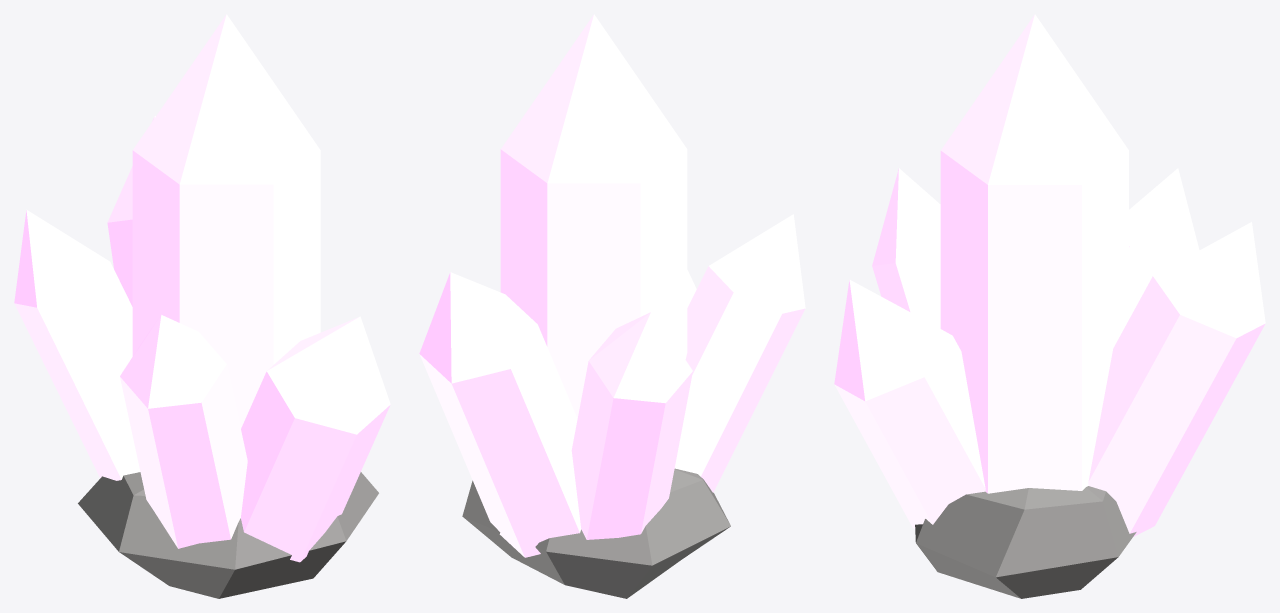
The model's file is arena_gem_pink.glb.
3 views of the same model, side by side, from view 1: azimuth 30°, elevation 25°; view 2: azimuth 150°, elevation 25°; view 3: azimuth 270°, elevation 25° (orthographic).
Parts seen in each view (by area): view 1: arena_gem_pink; view 2: arena_gem_pink; view 3: arena_gem_pink.
Boxes of the visible parts, left/top/right/bottom form: arena_gem_pink: left=14, top=14, right=390, bottom=598; arena_gem_pink: left=419, top=14, right=805, bottom=598; arena_gem_pink: left=834, top=14, right=1265, bottom=598.
Size of the model in its own units: 1.11 by 2.12 by 1.47.
